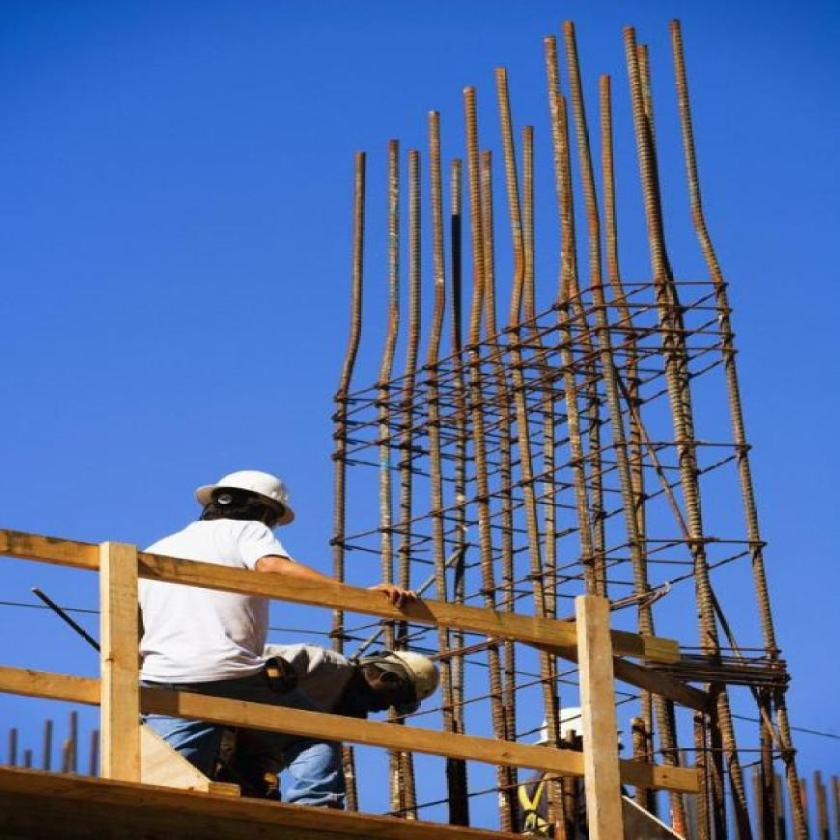Con_casco: (196, 457, 301, 549), (365, 636, 448, 725)
